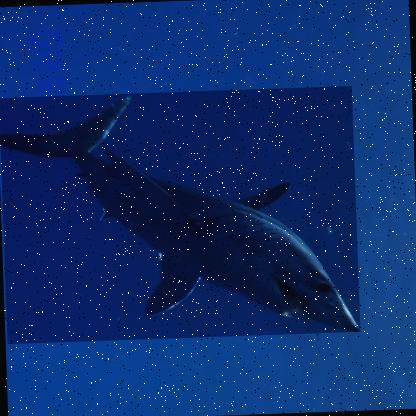mako-shark: (0, 86, 360, 346)
